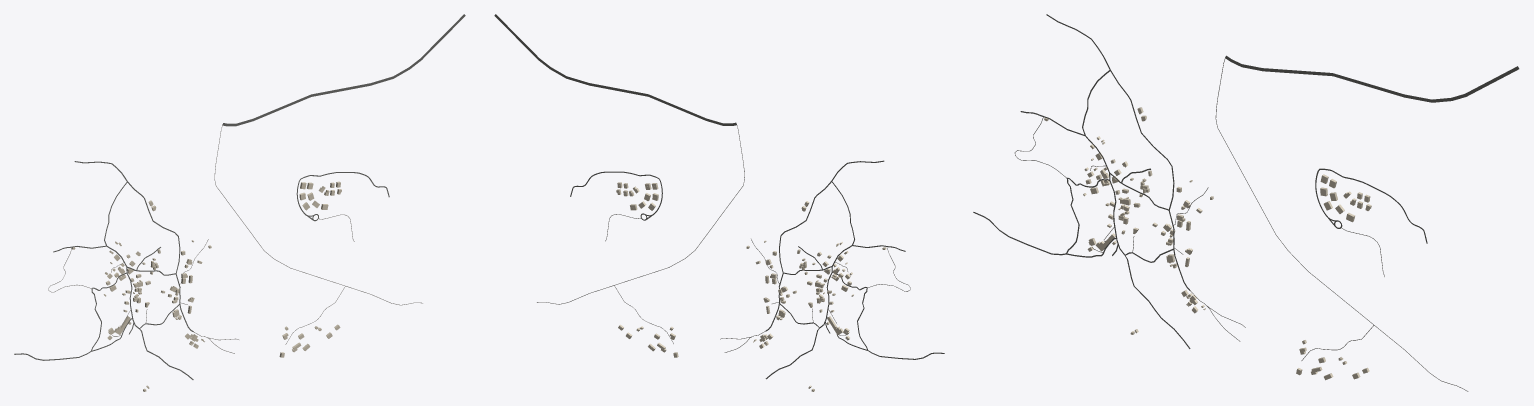
Rendered from historic-palestine-10_20_3515_3141.glb.
The picture shows the model from 3 angles, left to right: view 1: azimuth 30°, elevation 25°; view 2: azimuth 150°, elevation 25°; view 3: azimuth 330°, elevation 25°; orthographic projection. The views are drawn at different scales.
Parts seen in each view (by area): view 1: Road 317; view 2: Road 317; view 3: Road 317, Road.
Boxes of the visible parts, x1,y1,x2,y2 form: Road 317: (222,14,465,126); Road 317: (494,14,736,125); Road 317: (1225,55,1519,102); Road: (1046,14,1174,248).
Bounding box in the file's own units: 1441 × 916 × 8.7.
